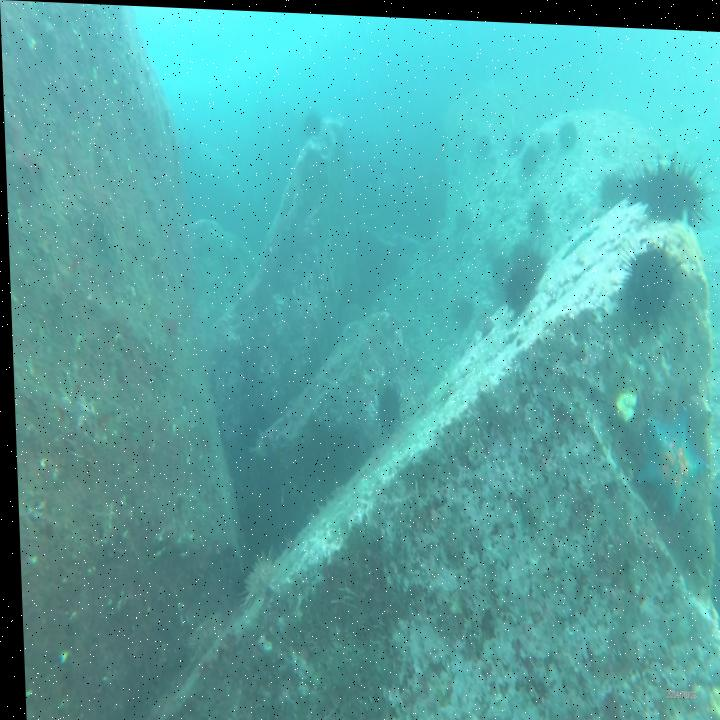echinus: (641, 142, 717, 232), (612, 227, 682, 324), (76, 169, 126, 254), (499, 251, 536, 311), (369, 376, 401, 435), (520, 232, 551, 285), (597, 159, 626, 203), (300, 96, 321, 141), (516, 137, 541, 173), (556, 113, 581, 147), (628, 160, 648, 200), (524, 195, 545, 229)
starfish: (631, 393, 708, 520)
